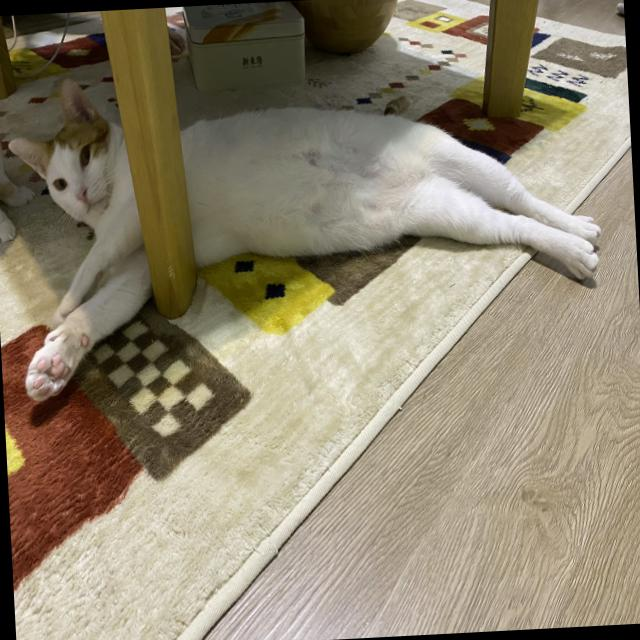cat1: (6, 46, 612, 404)
